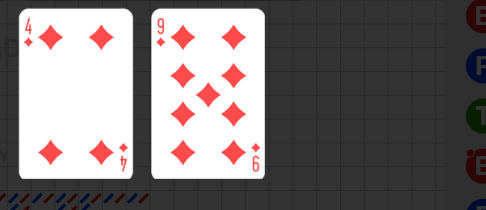9D: (250, 141, 262, 174), (155, 17, 167, 49)
